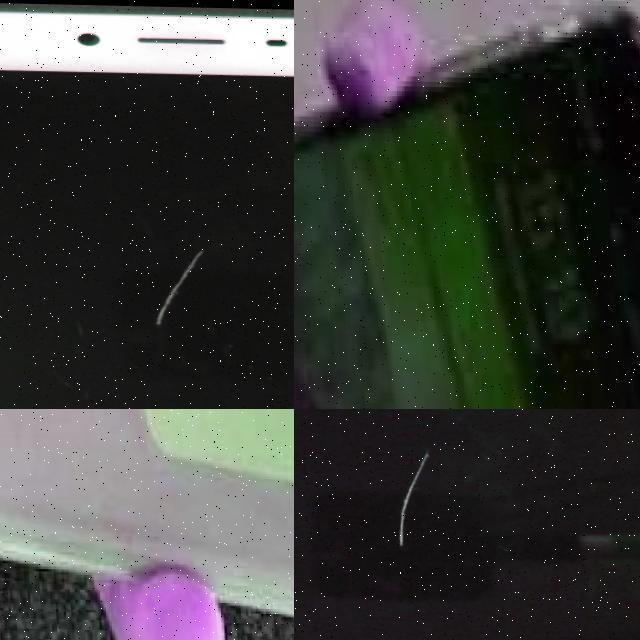scratch: (112, 234, 243, 336), (367, 436, 456, 556)
